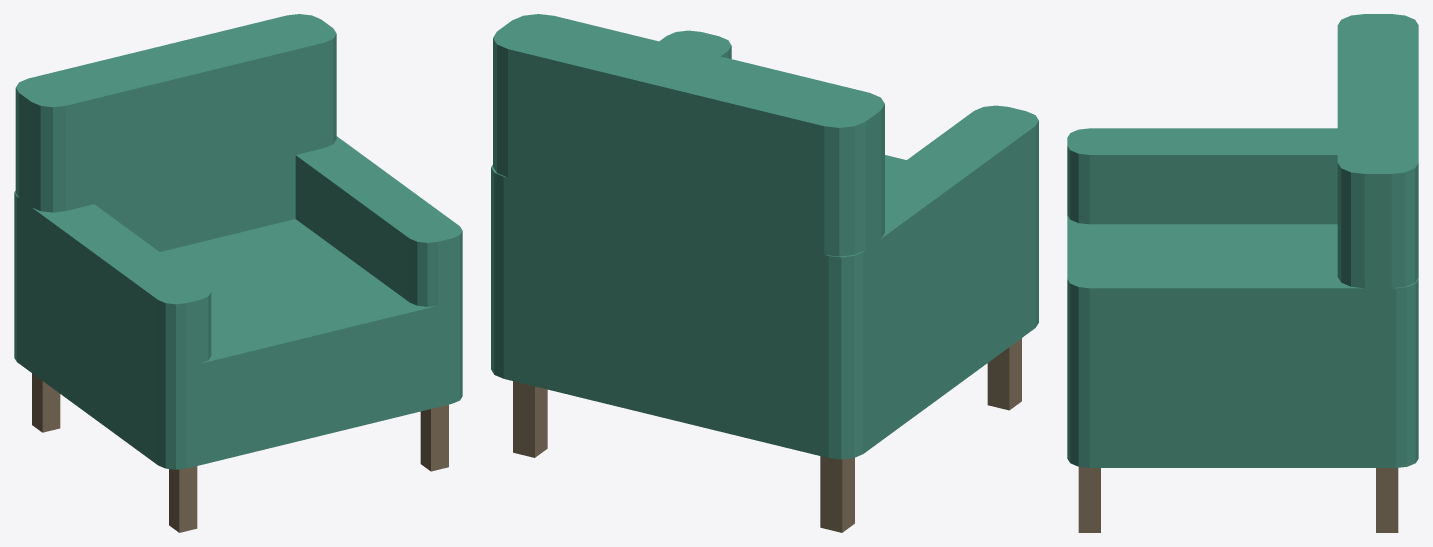
The model's file is city_armchair.glb.
3 renders of one model, left to right at view 1: azimuth 30°, elevation 25°; view 2: azimuth 150°, elevation 25°; view 3: azimuth 270°, elevation 25°, orthographic. The views are drawn at different scales.
Visible parts, largest first — view 1: CityArmchair_Back, CityArmchair_Seat, CityArmchair_Arm-0.42, CityArmchair_Arm0.28, CityArmchair_Leg-0.35-0.33, CityArmchair_Leg0.35-0.33, CityArmchair_Leg-0.350.33; view 2: CityArmchair_Back, CityArmchair_Arm-0.42, CityArmchair_Arm0.28, CityArmchair_Leg-0.350.33, CityArmchair_Leg0.350.33, CityArmchair_Leg-0.35-0.33; view 3: CityArmchair_Arm0.28, CityArmchair_Arm-0.42, CityArmchair_Back, CityArmchair_Seat, CityArmchair_Leg0.35-0.33, CityArmchair_Leg0.350.33.
Part boxes in pixels (box(x1,y1,x2,y2)): CityArmchair_Back: box(15, 14, 336, 372); CityArmchair_Seat: box(160, 219, 441, 465); CityArmchair_Arm-0.42: box(14, 190, 211, 469); CityArmchair_Arm0.28: box(295, 136, 462, 406); CityArmchair_Leg-0.35-0.33: box(169, 466, 197, 532); CityArmchair_Leg0.35-0.33: box(420, 404, 448, 471); CityArmchair_Leg-0.350.33: box(32, 373, 60, 432); CityArmchair_Back: box(493, 14, 884, 456); CityArmchair_Arm-0.42: box(811, 105, 1038, 459); CityArmchair_Arm0.28: box(491, 30, 731, 382); CityArmchair_Leg-0.350.33: box(820, 456, 854, 532); CityArmchair_Leg0.350.33: box(513, 381, 547, 457); CityArmchair_Leg-0.35-0.33: box(987, 338, 1021, 410); CityArmchair_Arm0.28: box(1067, 261, 1418, 467); CityArmchair_Arm-0.42: box(1067, 128, 1337, 224); CityArmchair_Back: box(1337, 14, 1418, 467); CityArmchair_Seat: box(1067, 215, 1337, 270); CityArmchair_Leg0.35-0.33: box(1078, 467, 1100, 532); CityArmchair_Leg0.350.33: box(1376, 468, 1398, 532).
Size of the model in its own units: 0.84 by 0.9 by 0.78.
